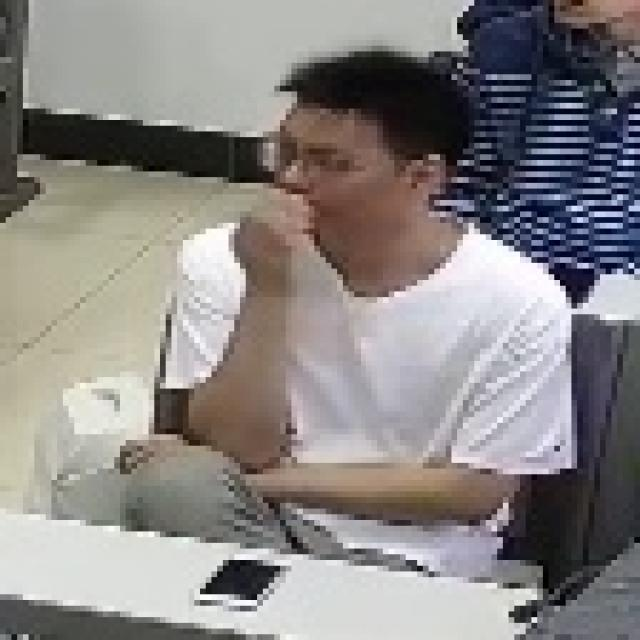listen: (128, 50, 588, 583)
